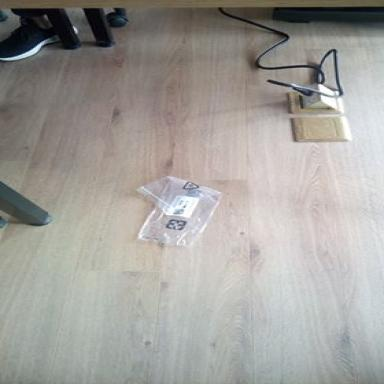plasticbag: (122, 175, 224, 247)
